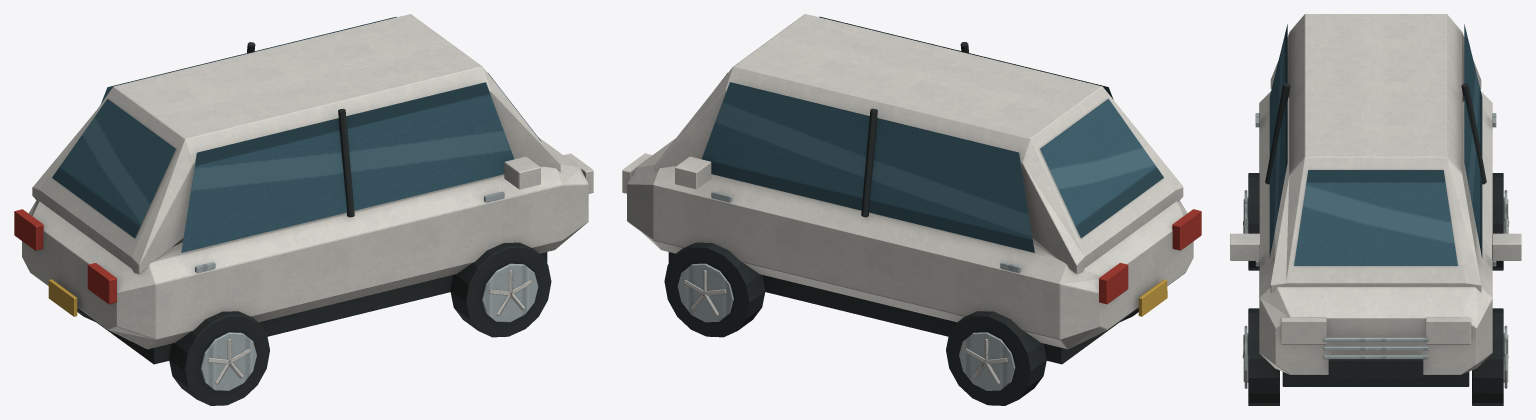
File: kei_wagon.obj
3 renders of one model, left to right at view 1: azimuth 30°, elevation 25°; view 2: azimuth 150°, elevation 25°; view 3: azimuth 270°, elevation 25°, orthographic.
Parts seen in each view (by area): view 1: kei_wagon; view 2: kei_wagon; view 3: kei_wagon.
Boxes of the visible parts, x1,y1,x2,y2 form: kei_wagon: [14, 14, 593, 405]; kei_wagon: [622, 14, 1201, 405]; kei_wagon: [1230, 14, 1521, 405].
Size of the model in its own units: 3.51 by 1.72 by 1.85.
Materials: 1 (1 with a texture image).
